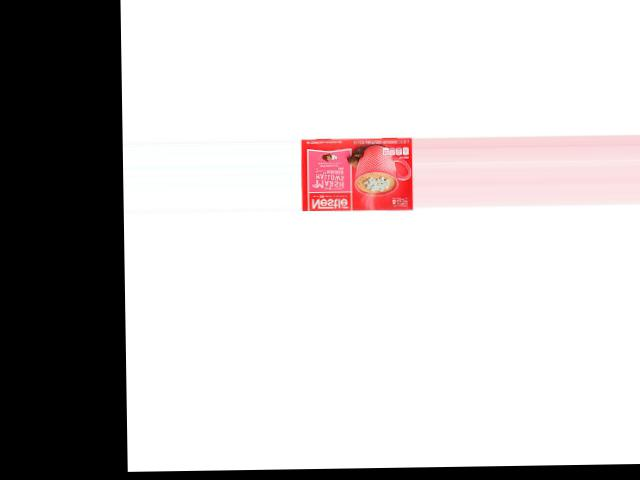chocolate: (303, 133, 413, 208)
